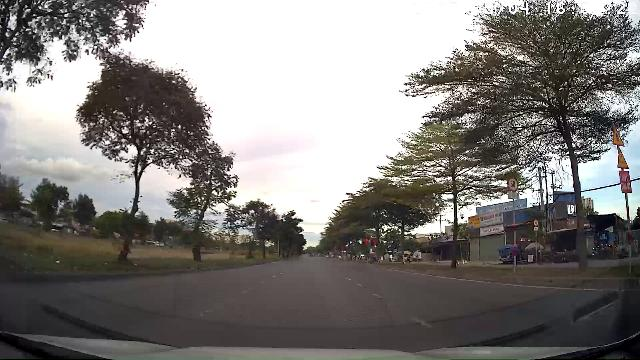127-toc-do-toi-da-50: (507, 177, 519, 191)
